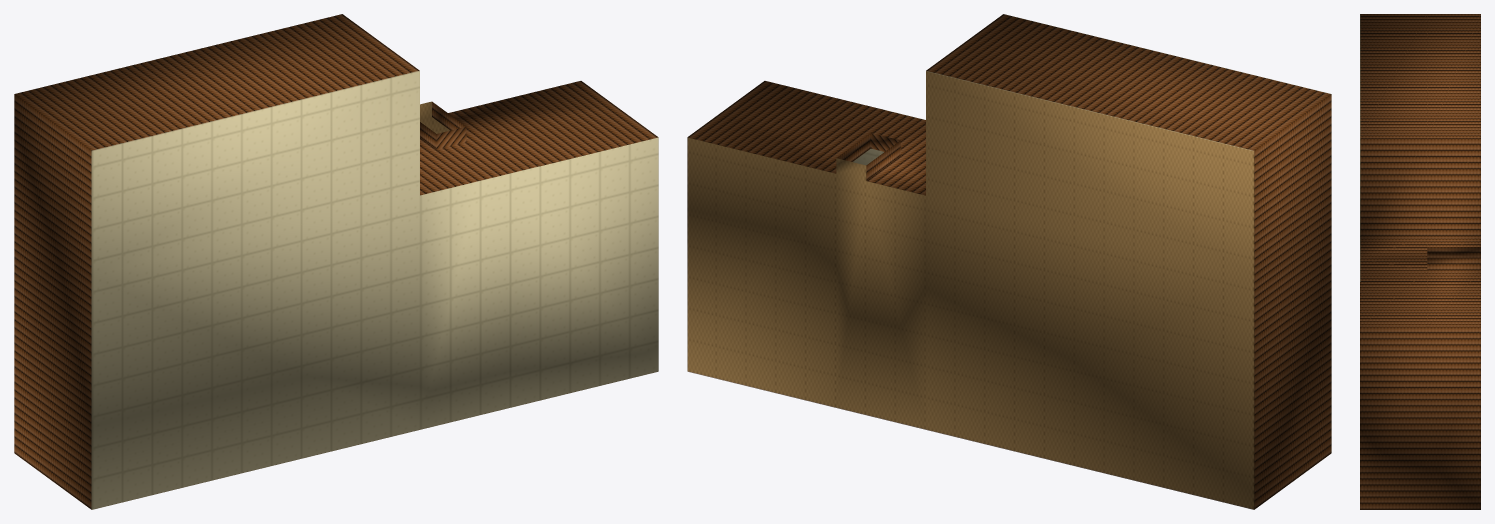
Rendered from apartment_inside_left.fbx.
The picture shows the model from 3 angles, left to right: view 1: azimuth 30°, elevation 25°; view 2: azimuth 150°, elevation 25°; view 3: azimuth 270°, elevation 25°; orthographic projection. The views are drawn at different scales.
Parts seen in each view (by area): view 1: apartment_rooms_004; view 2: apartment_rooms_004; view 3: apartment_rooms_004.
Boxes of the visible parts, left/top/right/bottom form: apartment_rooms_004: left=14, top=14, right=658, bottom=509; apartment_rooms_004: left=687, top=14, right=1331, bottom=509; apartment_rooms_004: left=1360, top=14, right=1480, bottom=509.
Size of the model in its own units: 38 by 23 by 9.
1 material, 1 textured.
